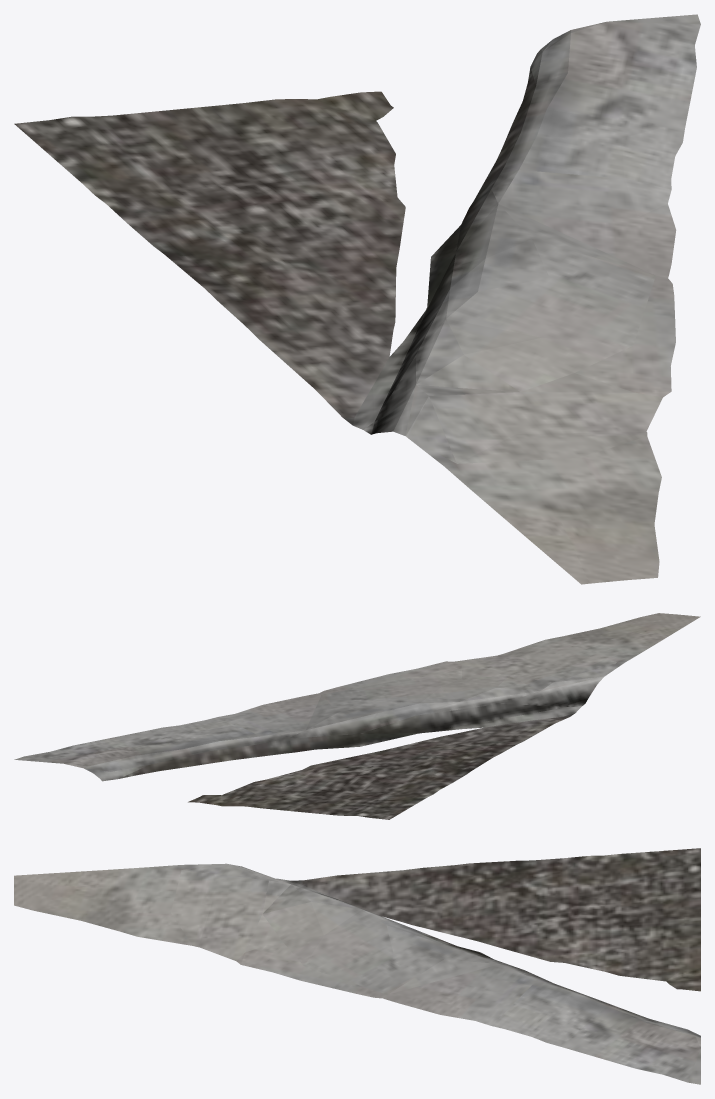
The picture shows the model from 3 angles, top to bottom: view 1: azimuth 30°, elevation 25°; view 2: azimuth 150°, elevation 25°; view 3: azimuth 270°, elevation 25°; orthographic projection. The views are drawn at different scales.
Bounding box in the file's own units: 0.5824 × 0.0467 × 0.8374.
1 material, 1 textured.
